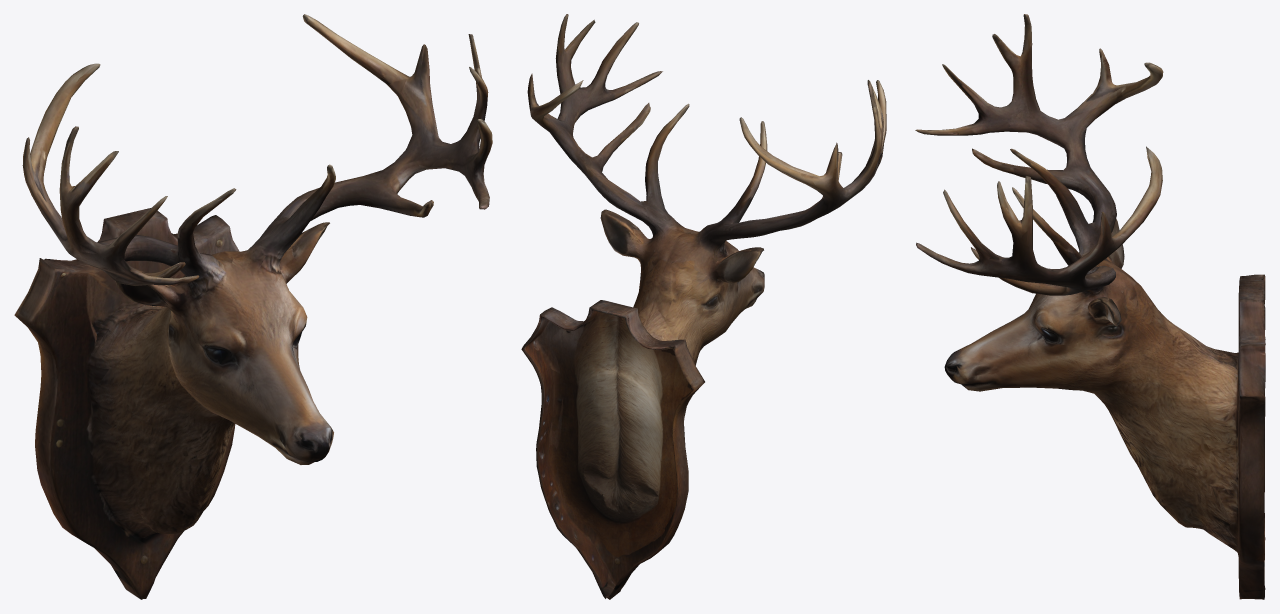
File: Deer_Head_LowPoly.fbx
The picture shows the model from 3 angles, left to right: view 1: azimuth 30°, elevation 25°; view 2: azimuth 150°, elevation 25°; view 3: azimuth 270°, elevation 25°; orthographic projection. The views are drawn at different scales.
Parts seen in each view (by area): view 1: Mesh1_Mesh1.049; view 2: Mesh1_Mesh1.049; view 3: Mesh1_Mesh1.049.
Boxes of the visible parts, <box> form: Mesh1_Mesh1.049: <box>14,14,492,599</box>; Mesh1_Mesh1.049: <box>521,14,886,599</box>; Mesh1_Mesh1.049: <box>915,14,1265,599</box>.
Size of the model in its own units: 143 by 199 by 125.
